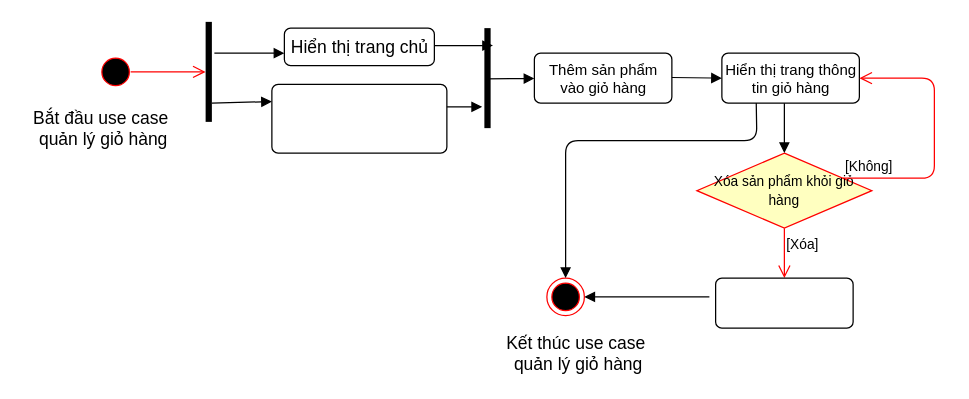
This 969x399 diagram has some shape labels left out. The shapes that lost their labels are listed below. From the top down, each one's centre as x and y in pixels, then its label:
pixel 359 118: Hiển thị trang chi tiết sản phẩm cụ thể
pixel 783 302: Cập nhật dữ liệu hệ thống
